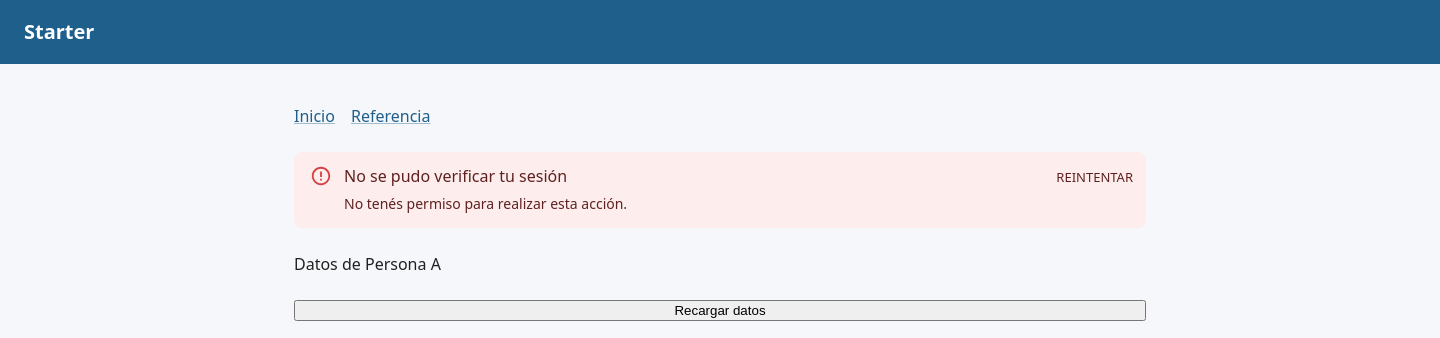
Test: Sesión en el shell › un 403 de me se explica con reintento y no se toma como visitante
Check: the text "No se pudo verificar tu sesión" is shown, box [344, 165, 567, 187]
Check: the message shows "No tenés permiso", box [344, 194, 627, 213]
Click the button "Reintentar": x=1095, y=177 [1051, 162, 1138, 193]
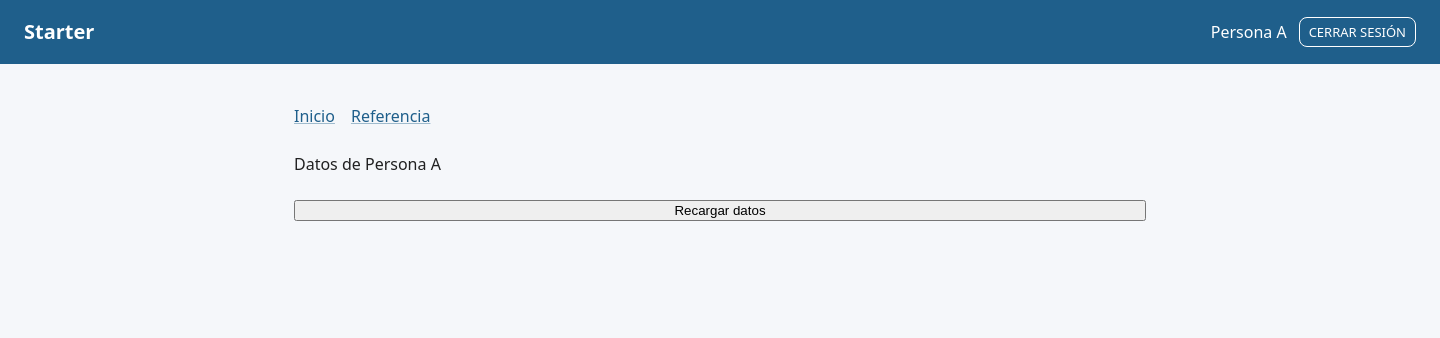
Check: the text "Persona A" is shown, box [1211, 20, 1287, 44]
